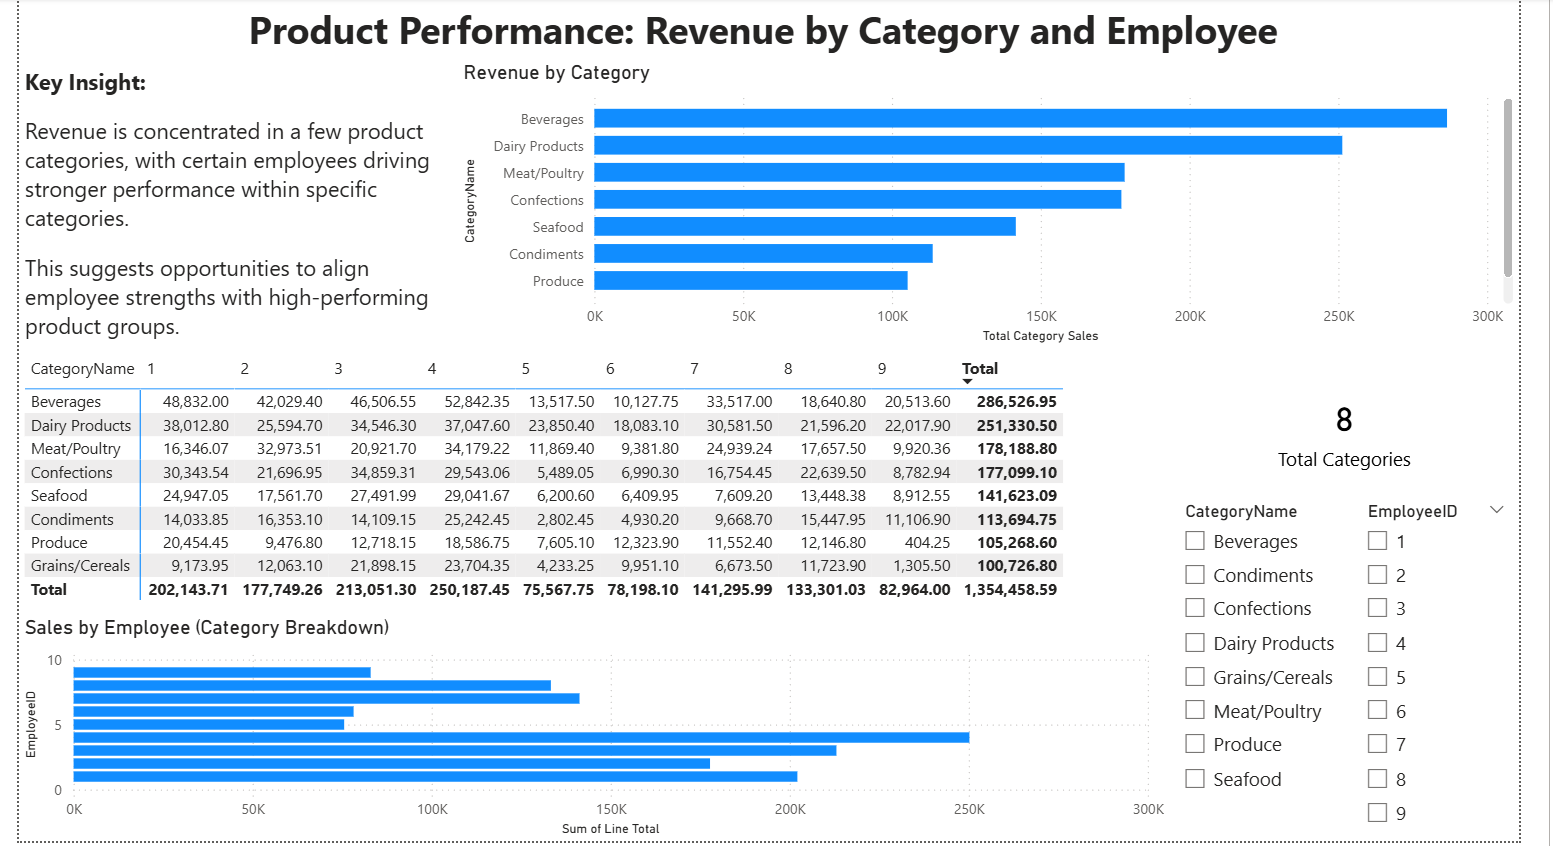

What the dashboard file says about the page in this screenshot:
{"tool":"powerbi","page":{"name":"Region by Category","canvas":[1280,720],"ordinal":2},"visuals":[{"type":"barChart","title":"Revenue by Category","fields":{"Y":["customers.Total Category Sales"],"Category":["products.CategoryName"]},"box":[374.5,53.3,905.9,246.5],"z":0},{"type":"pivotTable","fields":{"Rows":["products.CategoryName"],"Values":["customers.Sales per Category per Employee"],"Columns":["orders and amounts.EmployeeID"]},"box":[0,299.8,982.7,219.8],"z":1000},{"type":"slicer","fields":{"Values":["orders and amounts.EmployeeID"]},"box":[1138.5,424.7,141.9,295.6],"z":2000},{"type":"card","fields":{"Values":["customers.Total Categories"]},"box":[982.7,312.6,297.7,112],"z":3000},{"type":"slicer","fields":{"Values":["products.CategoryName"]},"box":[982.7,424.7,155.8,295.6],"z":4000},{"type":"barChart","title":"Sales by Employee (Category Breakdown)","fields":{"Y":["Sum(orders and amounts.Line Total)"],"Category":["orders and amounts.EmployeeID"]},"box":[0,527.1,982.7,193.1],"z":5000},{"type":"textbox","box":[191,0,888.8,53.3],"z":6000},{"type":"textbox","box":[0,53.3,374.5,246.5],"z":7000}]}

Visuals, with their boxes on the page's 1280x720 design canvas (x1, y1, x2, y2). These are canvas units, not pixel positions in the 1553x846 screenshot, which may show the page scaled, cropped or inside an application window:
"Revenue by Category" barChart: (left=374, top=53, right=1280, bottom=300)
pivotTable - products.CategoryName x customers.Sales per Category per Employee: (left=0, top=300, right=983, bottom=520)
slicer - orders and amounts.EmployeeID: (left=1138, top=425, right=1280, bottom=720)
card - customers.Total Categories: (left=983, top=313, right=1280, bottom=425)
slicer - products.CategoryName: (left=983, top=425, right=1138, bottom=720)
"Sales by Employee (Category Breakdown)" barChart: (left=0, top=527, right=983, bottom=720)
textbox: (left=191, top=0, right=1080, bottom=53)
textbox: (left=0, top=53, right=374, bottom=300)
